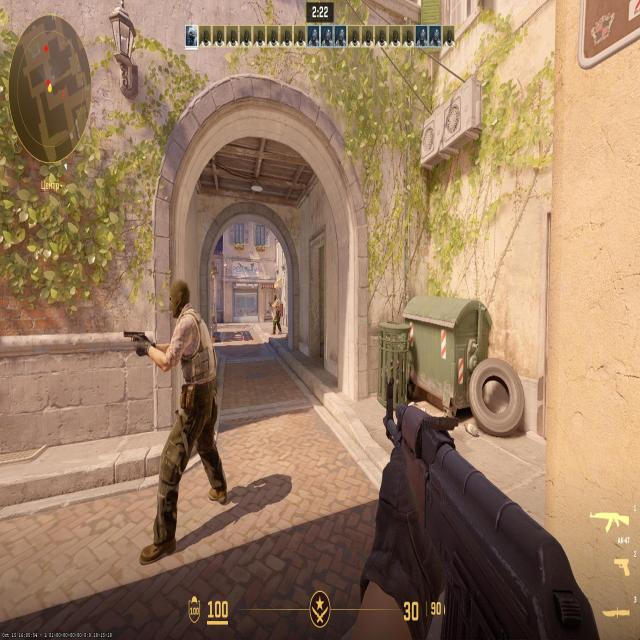T: (167, 284, 213, 494), (273, 293, 281, 339)
T_heat: (174, 290, 187, 321), (274, 296, 277, 300)
